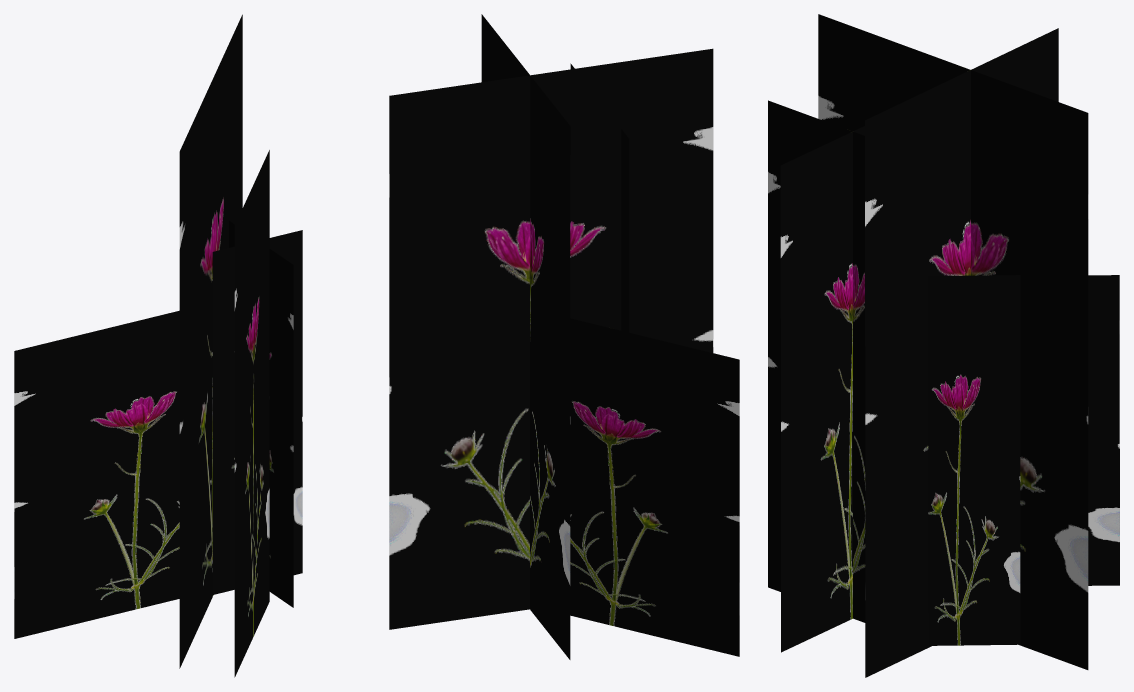
Rendered from flower_01.fbx.
3 renders of one model, left to right at view 1: azimuth 30°, elevation 25°; view 2: azimuth 150°, elevation 25°; view 3: azimuth 270°, elevation 25°, orthographic. The views are drawn at different scales.
Visible parts, largest first — view 1: flower_01; view 2: flower_01; view 3: flower_01.
Part boxes in pixels (left/top/right/bottom): flower_01: left=14, top=14, right=302, bottom=677; flower_01: left=389, top=14, right=739, bottom=659; flower_01: left=768, top=14, right=1119, bottom=677.
Size of the model in its own units: 34 by 56.42 by 32.28.
1 material, 1 textured.
